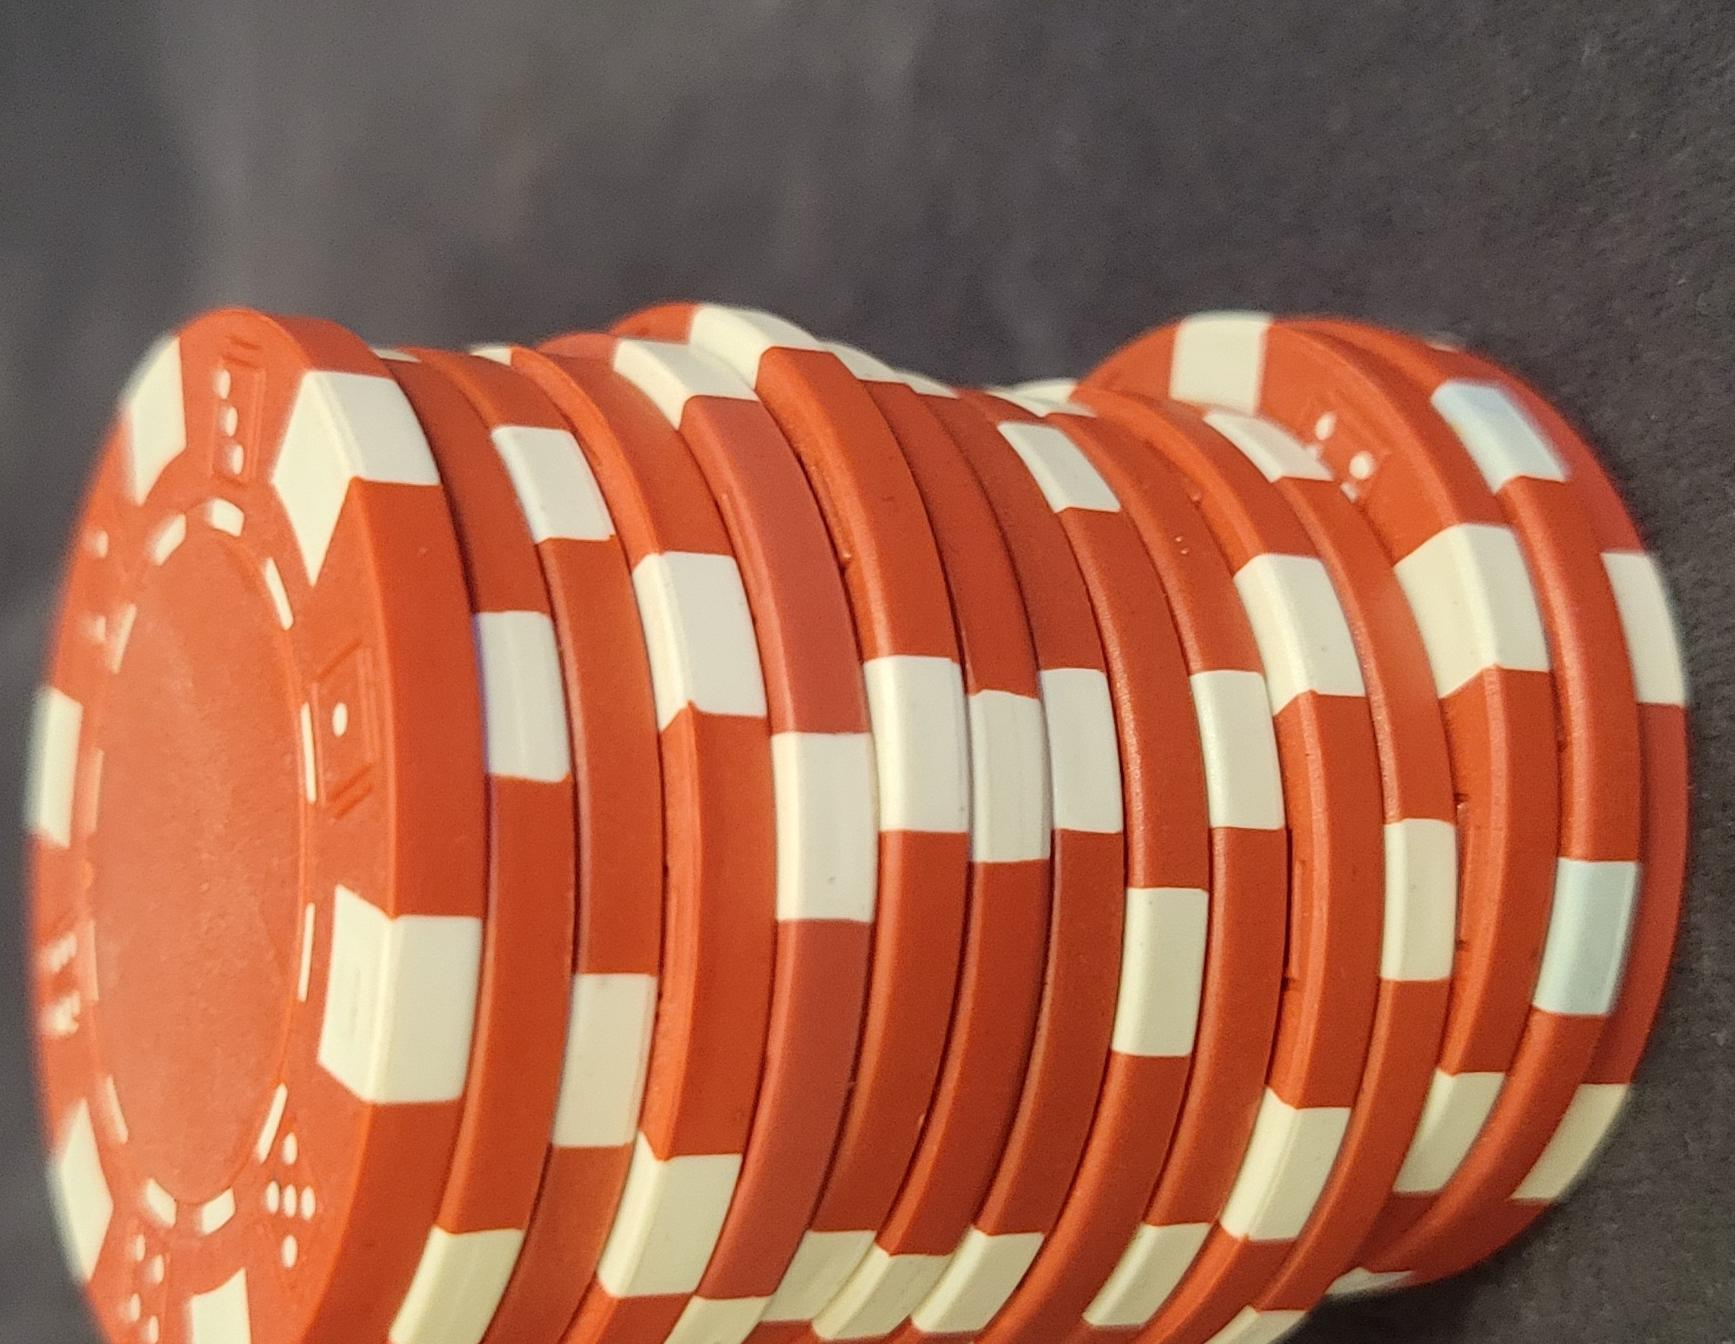Chip: (1, 231, 1034, 1344)
